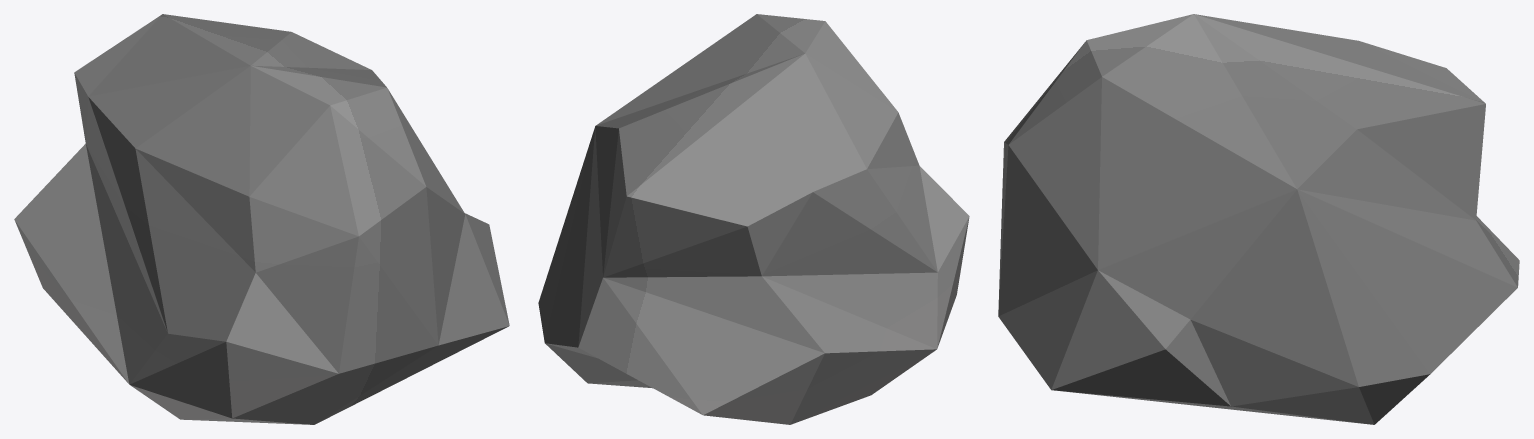
File: 3D_Rock3.fbx
The picture shows the model from 3 angles, left to right: view 1: azimuth 30°, elevation 25°; view 2: azimuth 150°, elevation 25°; view 3: azimuth 270°, elevation 25°; orthographic projection. The views are drawn at different scales.
Parts seen in each view (by area): view 1: Rock3; view 2: Rock3; view 3: Rock3.
Boxes of the visible parts, <box> form: Rock3: <box>14,14,509,424</box>; Rock3: <box>538,14,969,424</box>; Rock3: <box>998,14,1519,424</box>.
Size of the model in its own units: 28.77 by 26.18 by 34.31.
